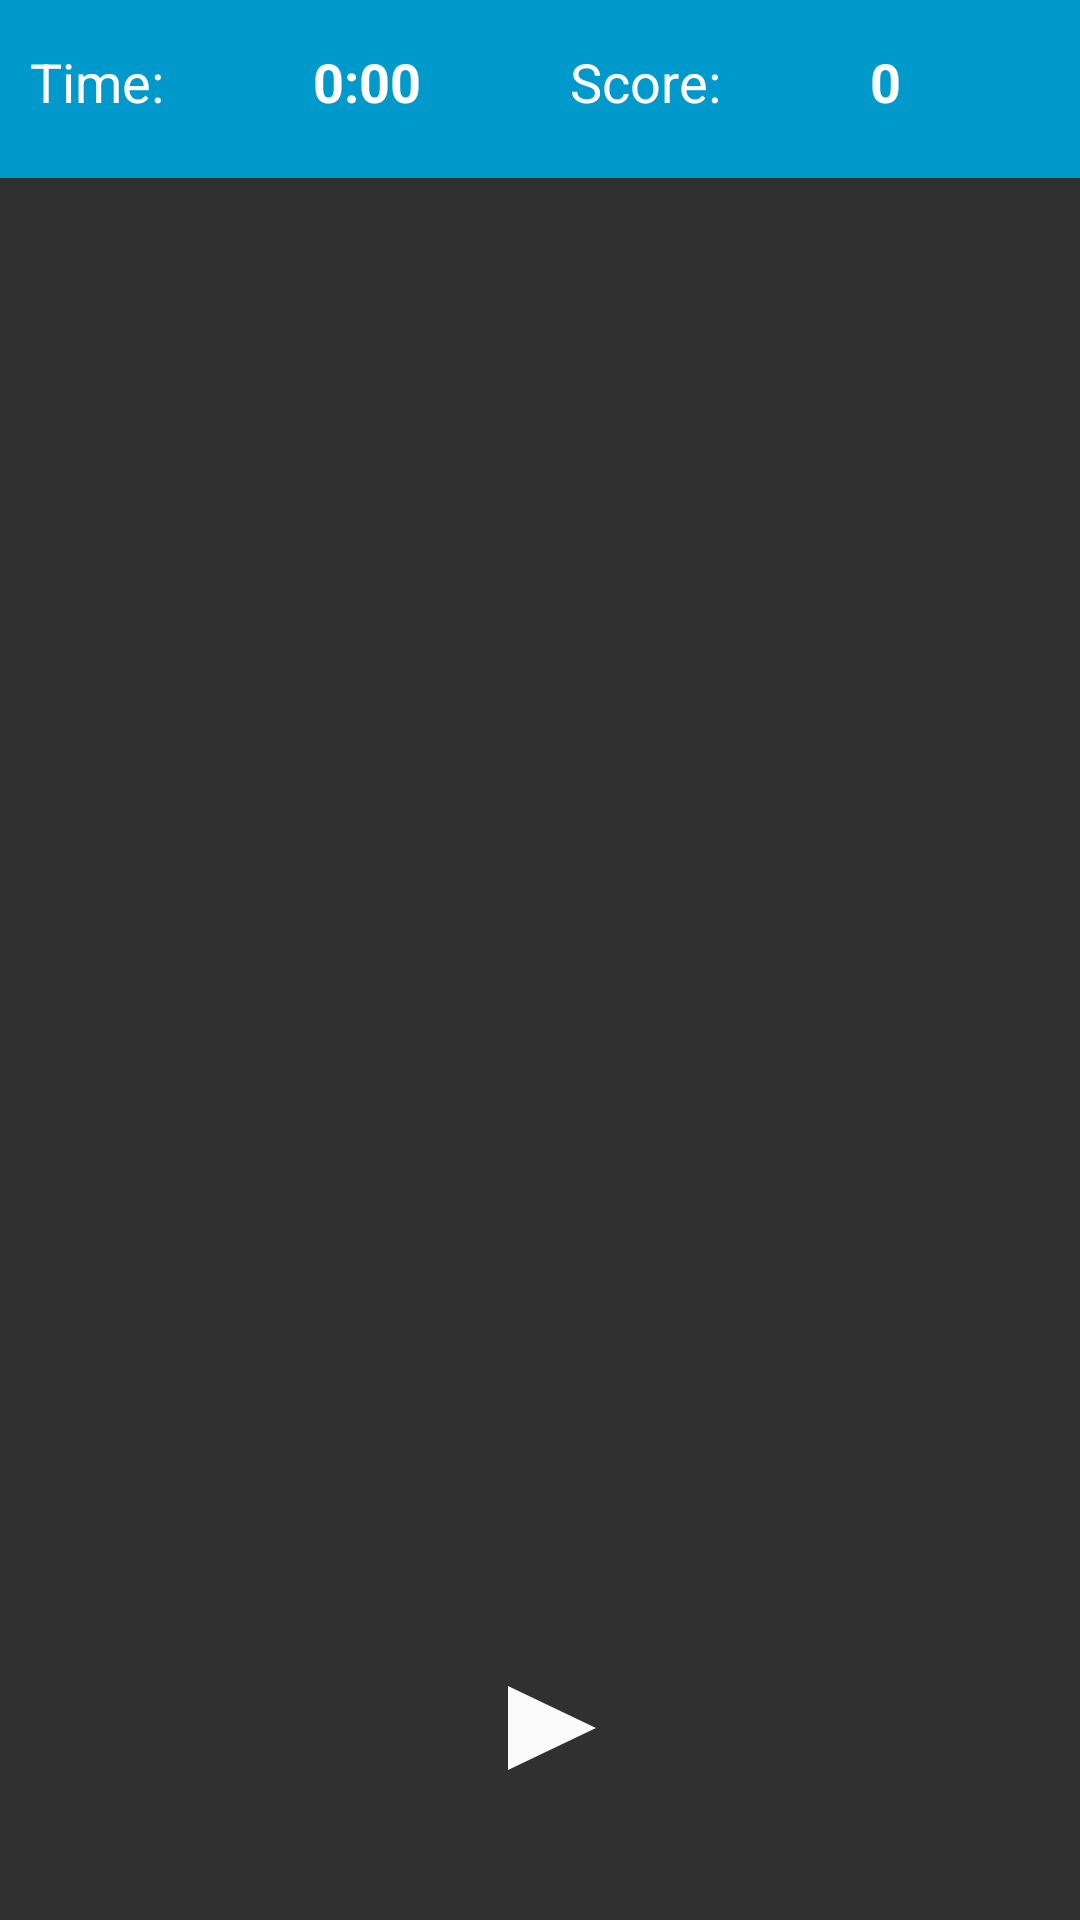

Screen size 1080 × 1920. Icon name, then its center in pixels as point (x, y):
play arrow: point (552, 1728)
